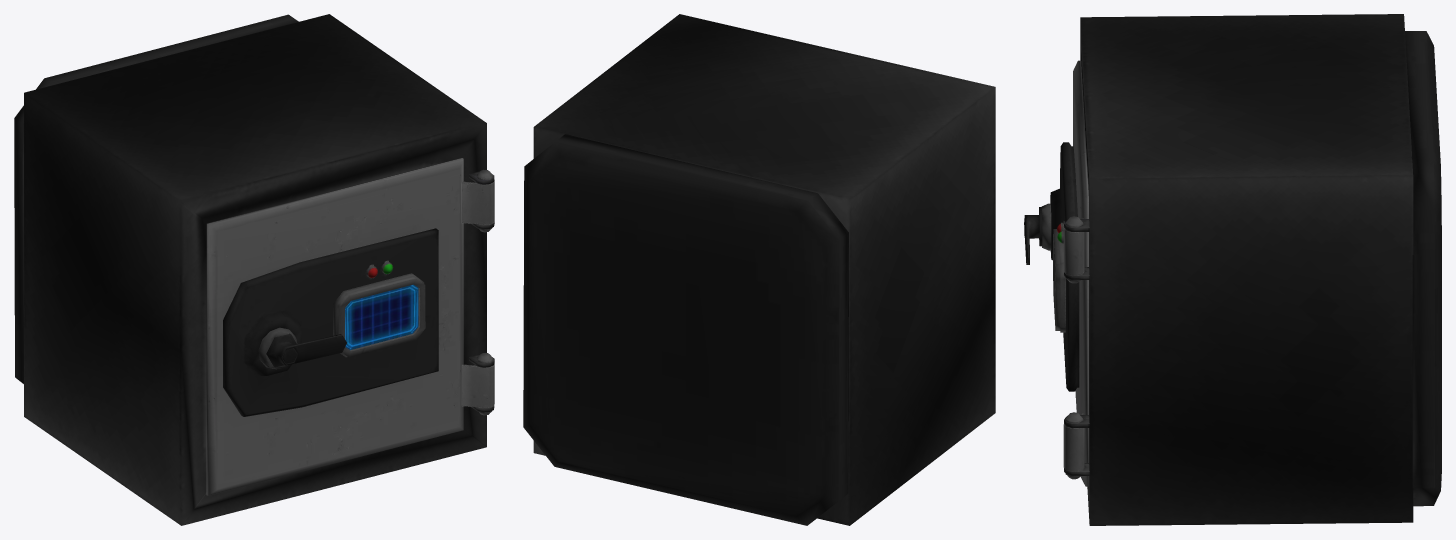
The model's file is safe_small.glb.
3 renders of one model, left to right at view 1: azimuth 30°, elevation 25°; view 2: azimuth 150°, elevation 25°; view 3: azimuth 270°, elevation 25°, orthographic. The views are drawn at different scales.
Parts seen in each view (by area): view 1: Safe_Body_SmallSquare_Material #25_0, Group32007_default_0; view 2: Safe_Body_SmallSquare_Material #25_0; view 3: Safe_Body_SmallSquare_Material #25_0, Group32007_default_0.
Part boxes in pixels (left/top/right/bottom): Safe_Body_SmallSquare_Material #25_0: left=14, top=14, right=494, bottom=525; Group32007_default_0: left=206, top=158, right=494, bottom=495; Safe_Body_SmallSquare_Material #25_0: left=523, top=14, right=995, bottom=525; Safe_Body_SmallSquare_Material #25_0: left=1064, top=14, right=1441, bottom=525; Group32007_default_0: left=1024, top=60, right=1088, bottom=486.
Size of the model in its own units: 66.84 by 65.52 by 71.48.
Materials: 2 (2 with a texture image).
